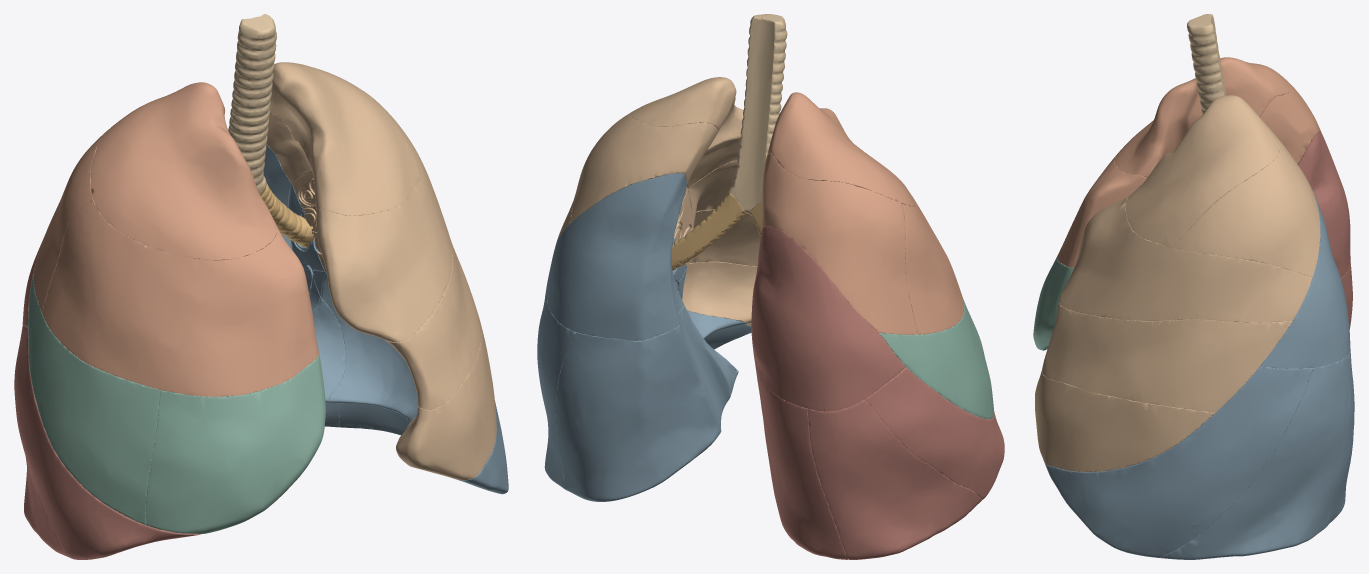
Rendered from lungs.glb.
The picture shows the model from 3 angles, left to right: view 1: azimuth 30°, elevation 25°; view 2: azimuth 150°, elevation 25°; view 3: azimuth 270°, elevation 25°; orthographic projection. The views are drawn at different scales.
Visible parts, largest first — view 1: FMA7359, FMA7338, FMA7360, FMA7372, FMA7373, FMA7361, FMA7364, FMA7375, FMA7374, FMA7378, FMA7394, FMA7339 (+5 smaller); view 2: FMA7380, FMA7376, FMA7366, FMA7363, FMA7339, FMA7372, FMA7364, FMA7362, FMA7338, FMA7394, FMA7361, FMA7359 (+6 smaller); view 3: FMA7372, FMA7378, FMA7373, FMA7374, FMA7379, FMA7375, FMA7338, FMA7376, FMA7366, FMA7359, FMA7339, FMA7394 (+3 smaller).
Boxes of the visible parts, bbox=[...] form: FMA7359: bbox=[42, 200, 318, 396]; FMA7338: bbox=[90, 82, 277, 260]; FMA7360: bbox=[145, 353, 325, 533]; FMA7372: bbox=[266, 62, 421, 215]; FMA7373: bbox=[300, 160, 452, 342]; FMA7361: bbox=[28, 276, 160, 525]; FMA7364: bbox=[14, 326, 201, 559]; FMA7375: bbox=[396, 325, 496, 480]; FMA7374: bbox=[312, 231, 481, 409]; FMA7378: bbox=[312, 270, 508, 494]; FMA7394: bbox=[228, 14, 276, 193]; FMA7339: bbox=[33, 130, 107, 311]; FMA7380: bbox=[556, 284, 738, 501]; FMA7376: bbox=[546, 173, 686, 340]; FMA7366: bbox=[751, 226, 905, 411]; FMA7363: bbox=[807, 399, 982, 559]; FMA7339: bbox=[761, 153, 917, 334]; FMA7372: bbox=[570, 77, 743, 222]; FMA7364: bbox=[865, 367, 1004, 499]; FMA7362: bbox=[755, 365, 847, 559]; FMA7338: bbox=[767, 92, 915, 206]; FMA7394: bbox=[729, 14, 787, 213]; FMA7361: bbox=[879, 298, 993, 419]; FMA7359: bbox=[902, 201, 964, 334]; FMA7372: bbox=[1125, 95, 1320, 277]; FMA7378: bbox=[1045, 365, 1313, 557]; FMA7373: bbox=[1059, 194, 1312, 322]; FMA7374: bbox=[1042, 302, 1292, 412]; FMA7379: bbox=[1159, 352, 1350, 559]; FMA7375: bbox=[1035, 371, 1214, 472]; FMA7338: bbox=[1115, 57, 1290, 177]; FMA7376: bbox=[1261, 189, 1350, 368]; FMA7366: bbox=[1298, 131, 1350, 277]; FMA7359: bbox=[1057, 153, 1146, 267]; FMA7339: bbox=[1260, 81, 1320, 164]; FMA7394: bbox=[1187, 14, 1226, 114].
Size of the model in its own units: 4.59 by 5.02 by 3.25.
